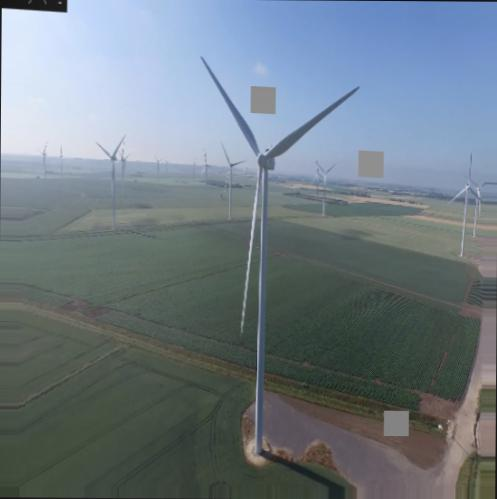wind turbine: (198, 55, 364, 452), (444, 153, 482, 256), (92, 130, 131, 230), (217, 140, 248, 229)
